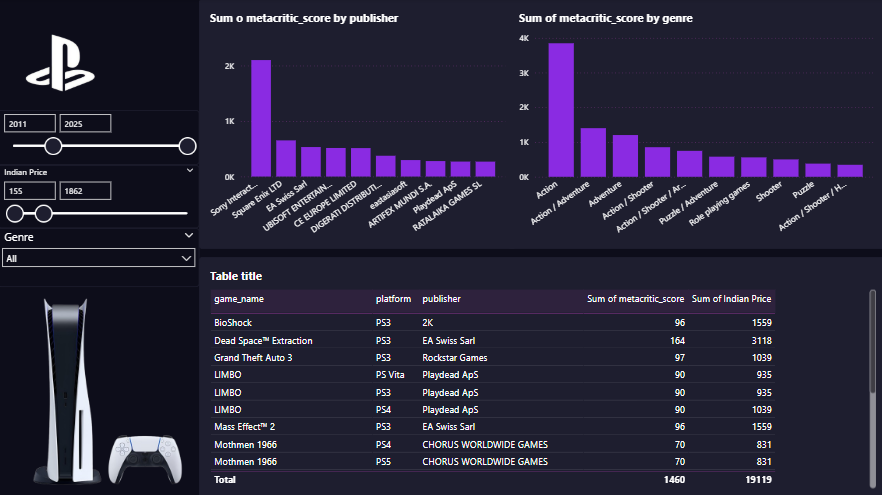

The dashboard page shown, as its layout file describes it:
{"tool":"powerbi","page":{"name":"Top 10","canvas":[1280,720],"ordinal":4},"visuals":[{"type":"tableEx","fields":{"Values":["game_details.game_name","game_details.platform","game_details.publisher","Sum(game_details.metacritic_score)","Sum(game_details.Indian Price)"]},"box":[290.2,371.8,989.8,347.6],"z":0},{"type":"columnChart","fields":{"Category":["game_details.publisher"],"Y":["Sum(game_details.metacritic_score)"]},"box":[290.2,0,456.4,359.7],"z":1000},{"type":"columnChart","fields":{"Category":["game_details.genre"],"Y":["Sum(game_details.metacritic_score)"]},"box":[735,0,545,360],"z":2000},{"type":"slicer","fields":{"Values":["game_details.Release_Year"]},"box":[0,160.2,290.2,78.6],"z":3000},{"type":"slicer","fields":{"Values":["game_details.genre"]},"box":[0,329.4,290.2,84.6],"z":4000},{"type":"slicer","fields":{"Values":["game_details.Indian Price"]},"box":[0,238.8,290.2,90.7],"z":5000}]}

Visuals, with their boxes in screenshot pixels (x1, y1, x2, y2), scaled from the page's 1280x720 canvas onto the 882x495 screenshot:
tableEx - game_details.game_name x game_details.platform: 200/256/881/494
columnChart - game_details.publisher x Sum(game_details.metacritic_score): 200/0/514/247
columnChart - game_details.genre x Sum(game_details.metacritic_score): 506/0/881/248
slicer - game_details.Release_Year: 0/110/200/164
slicer - game_details.genre: 0/226/200/285
slicer - game_details.Indian Price: 0/164/200/227
